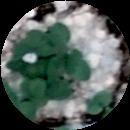Basil: (10, 60, 52, 82), (41, 21, 66, 56), (90, 82, 119, 111), (42, 69, 70, 99), (59, 55, 90, 78), (24, 32, 50, 56), (32, 75, 46, 108)
